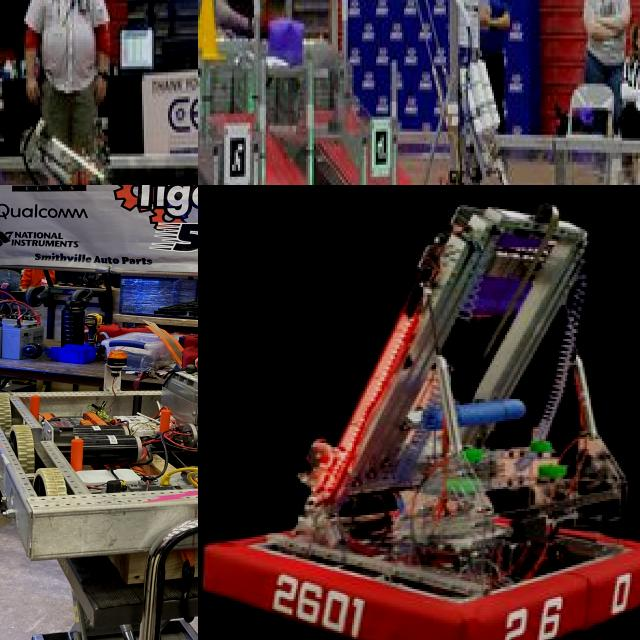FRC-Robots: (198, 185, 640, 640), (234, 0, 583, 185), (0, 287, 198, 575), (0, 88, 153, 185)
